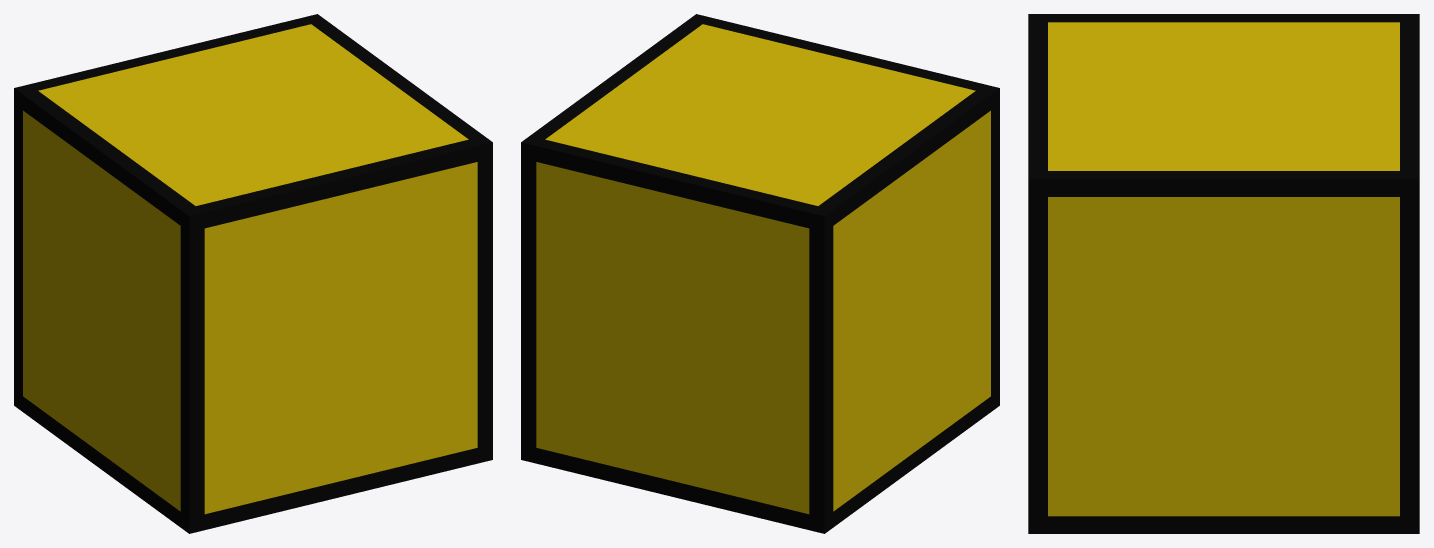
File: Yellow.fbx
3 views of the same model, side by side, from view 1: azimuth 30°, elevation 25°; view 2: azimuth 150°, elevation 25°; view 3: azimuth 270°, elevation 25° (orthographic). The views are drawn at different scales.
Visible parts, largest first — view 1: Cube; view 2: Cube; view 3: Cube.
Part boxes in pixels (left/top/right/bottom): Cube: left=14, top=14, right=492, bottom=533; Cube: left=521, top=14, right=999, bottom=533; Cube: left=1028, top=14, right=1419, bottom=533.
Size of the model in its own units: 200 by 200 by 200.
